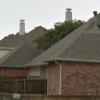Chimney: (58, 5, 79, 32)
